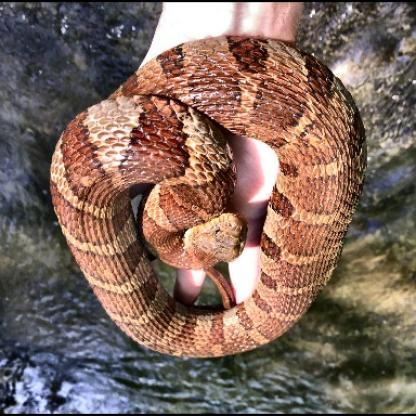Snake: (49, 18, 374, 381)
